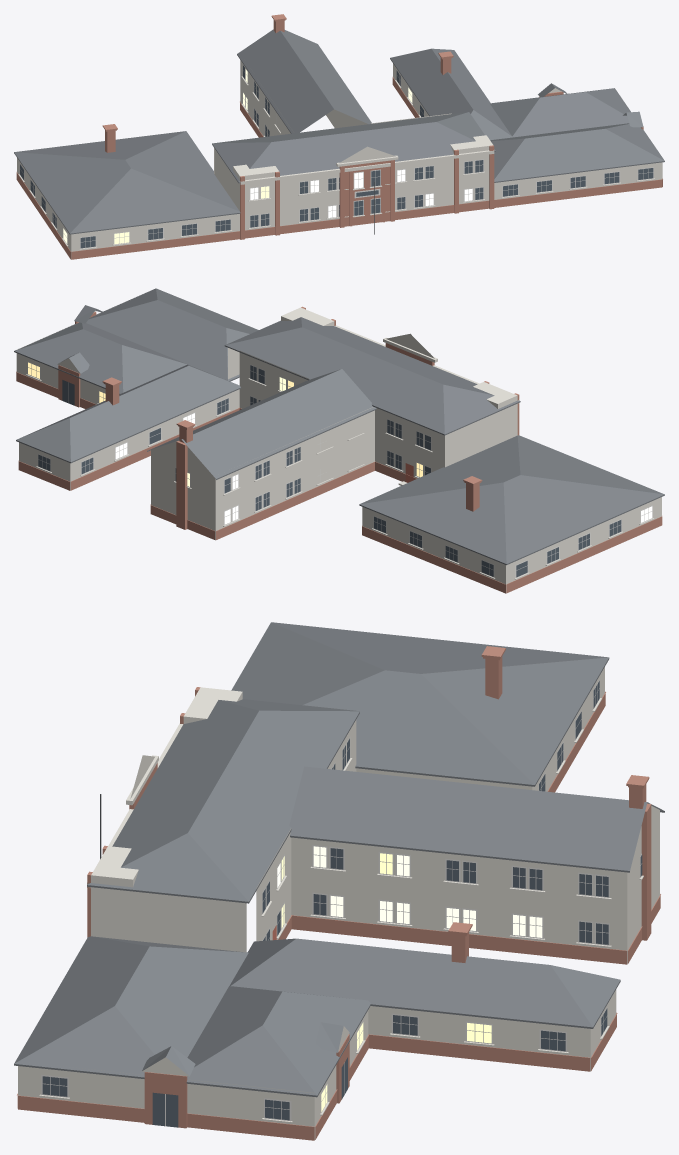
3 views of the same model, one above another, from view 1: azimuth 30°, elevation 25°; view 2: azimuth 150°, elevation 25°; view 3: azimuth 270°, elevation 25° (orthographic). The views are drawn at different scales.
Parts seen in each view (by area): view 1: slate, harl_cream, brick, windows, frame; view 2: slate, harl_cream, brick, windows, frame; view 3: slate, harl_cream, brick, windows, frame.
Part boxes in pixels (x1,y1,x2,y2): slate: [14, 29, 664, 234]; harl_cream: [17, 60, 662, 259]; brick: [16, 14, 662, 259]; windows: [20, 65, 653, 248]; frame: [19, 64, 653, 248]; slate: [14, 288, 664, 565]; harl_cream: [16, 307, 661, 593]; brick: [16, 306, 662, 593]; windows: [28, 362, 652, 577]; frame: [27, 361, 652, 578]; slate: [14, 622, 664, 1097]; harl_cream: [18, 667, 659, 1139]; brick: [17, 646, 660, 1140]; windows: [42, 681, 642, 1127]; frame: [41, 679, 641, 1126].
Bounding box in the file's own units: 72.27 × 11.08 × 42.06.
